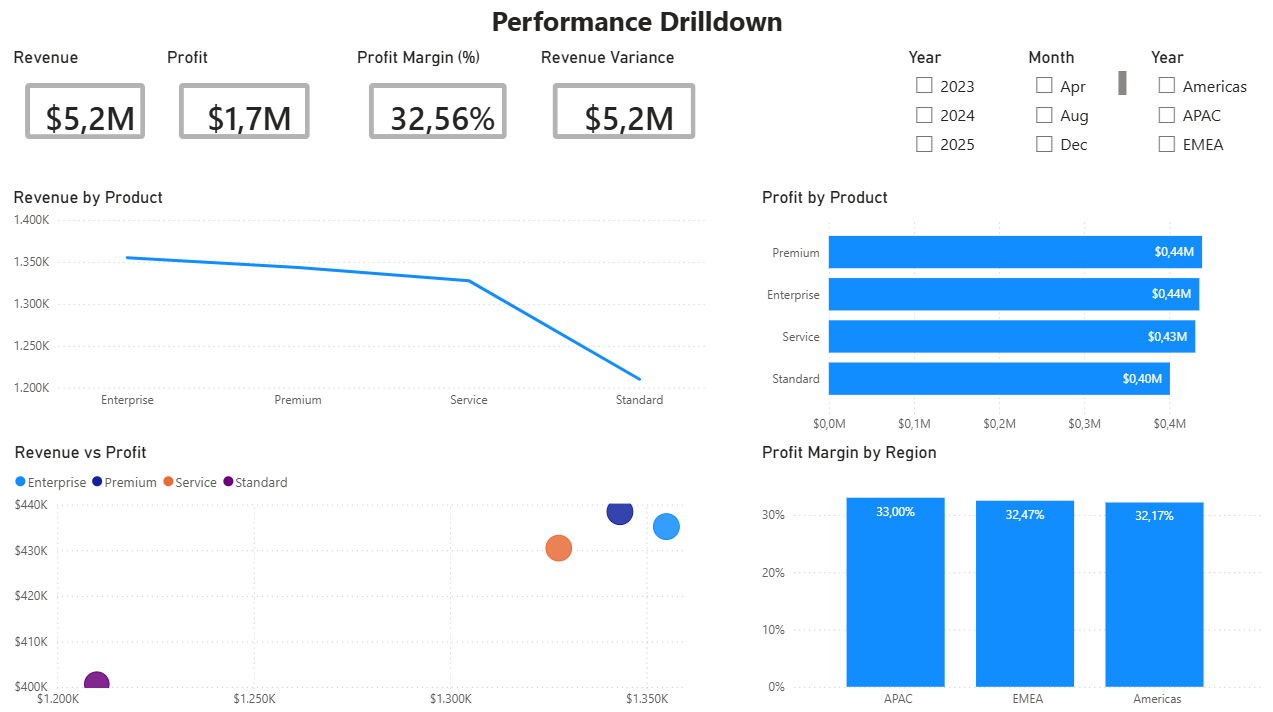

This screenshot's page, from the dashboard's own definition file:
{"tool":"powerbi","page":{"name":"Performance Drilldown","canvas":[1280,720],"ordinal":1},"visuals":[{"type":"cardVisual","title":"Revenue","fields":{"Data":["Fact_Sales.Revenue_measure"]},"box":[10.7,50.5,154.4,110.1],"z":0},{"type":"textbox","box":[0,0,1280,49.8],"z":1000},{"type":"cardVisual","title":"Profit","fields":{"Data":["Fact_Sales.Profit_measure"]},"box":[165.1,50.5,165.1,110.1],"z":2000},{"type":"cardVisual","title":"Profit Margin (%)","fields":{"Data":["Fact_Sales.Profit_Margin_%"]},"box":[354.7,50.5,172.8,110.1],"z":3000},{"type":"cardVisual","title":"Revenue Variance","fields":{"Data":["Fact_Sales.Revenue_variance_measure"]},"box":[538.2,50.5,177.4,110.1],"z":4000},{"type":"slicer","title":"Year","fields":{"Values":["Dim_Date.Year"]},"box":[906.7,50.5,108.6,139.1],"z":6000},{"type":"slicer","title":"Month","fields":{"Values":["Dim_Date.MonthName"]},"box":[1026.7,50,108.3,121.7],"z":7000},{"type":"slicer","title":"Year","fields":{"Values":["Dim_Region.Region"]},"box":[1148.2,50.5,120.8,139.1],"z":8000},{"type":"lineChart","title":"Revenue by Product","fields":{"Y":["Sum(Fact_Sales.Revenue)"],"Category":["Dim_Product.Product"]},"box":[10.7,189.6,704.8,230.9],"z":9000},{"type":"scatterChart","title":"Revenue vs Profit","fields":{"Y":["Fact_Sales.Profit_measure"],"Size":["Fact_Sales.Revenue_measure"],"X":["Fact_Sales.Revenue_measure"],"Series":["Dim_Product.Product"]},"box":[12.5,445,702.5,275],"z":10000},{"type":"barChart","title":"Profit by Product","fields":{"Category":["Dim_Product.Product"],"Y":["Fact_Sales.Profit_measure"]},"box":[759.9,189.6,509.1,255.3],"z":11000},{"type":"columnChart","title":"Profit Margin by Region","fields":{"Category":["Dim_Region.Region"],"Y":["Fact_Sales.Profit_Margin_%"]},"box":[760,445,509,275],"z":11001}]}

Visuals, with their boxes in screenshot pixels (x1, y1, x2, y2), scaled from the page's 1280x720 canvas onto the 1273x712 screenshot:
"Revenue" cardVisual: {"left": 11, "top": 50, "right": 164, "bottom": 159}
textbox: {"left": 0, "top": 0, "right": 1272, "bottom": 49}
"Profit" cardVisual: {"left": 164, "top": 50, "right": 328, "bottom": 159}
"Profit Margin (%)" cardVisual: {"left": 353, "top": 50, "right": 525, "bottom": 159}
"Revenue Variance" cardVisual: {"left": 535, "top": 50, "right": 712, "bottom": 159}
"Year" slicer: {"left": 902, "top": 50, "right": 1010, "bottom": 187}
"Month" slicer: {"left": 1021, "top": 49, "right": 1129, "bottom": 170}
"Year" slicer: {"left": 1142, "top": 50, "right": 1262, "bottom": 187}
"Revenue by Product" lineChart: {"left": 11, "top": 187, "right": 712, "bottom": 416}
"Revenue vs Profit" scatterChart: {"left": 12, "top": 440, "right": 711, "bottom": 711}
"Profit by Product" barChart: {"left": 756, "top": 187, "right": 1262, "bottom": 440}
"Profit Margin by Region" columnChart: {"left": 756, "top": 440, "right": 1262, "bottom": 711}
